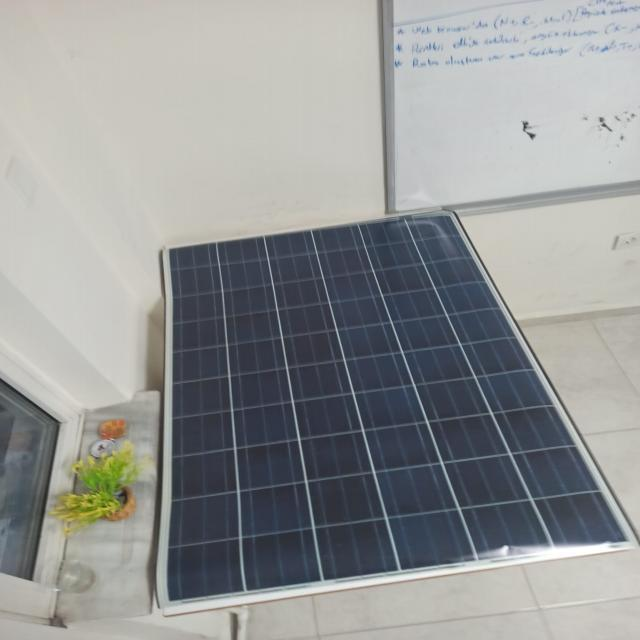no faulty: (150, 202, 620, 620)
